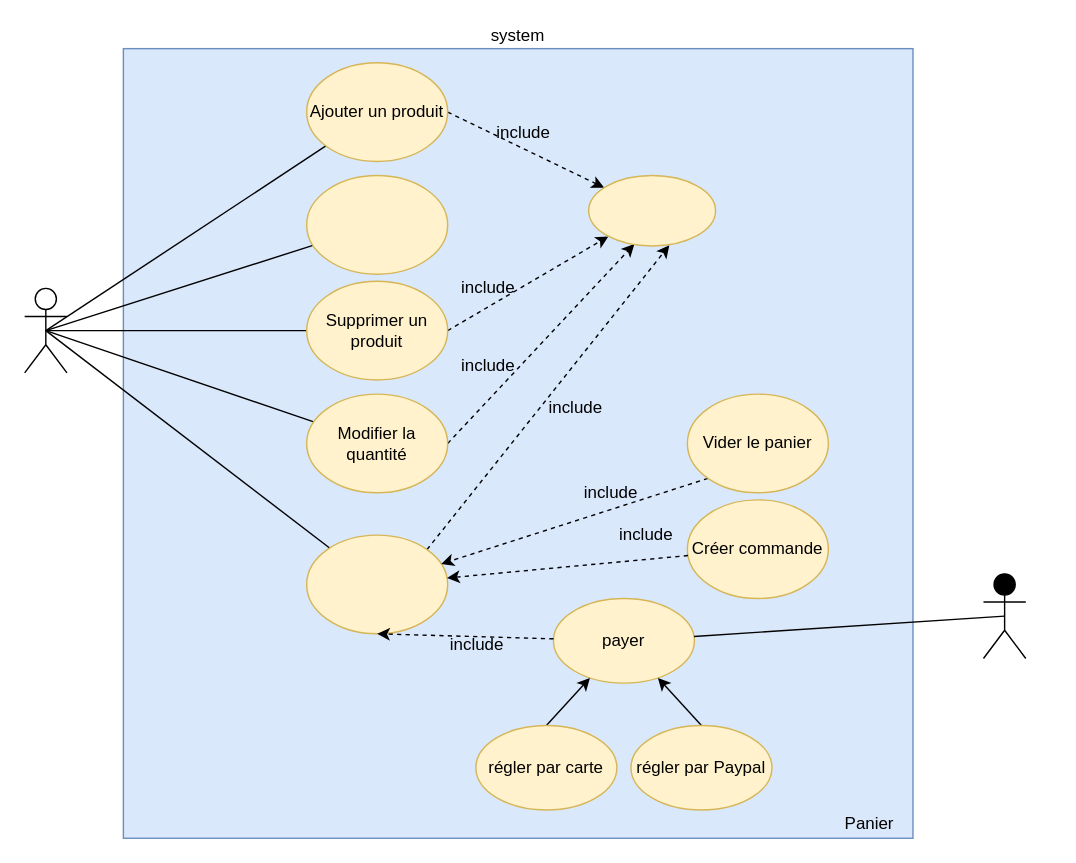
The diagram is 1076 pixels wide and 863 high, and some of its shapes have lost their labels. Here are the shapes that lost their labels. From the top down, the centre of each, then its label:
point (376, 224): Consulter produits
point (651, 210): authentification
point (45, 330): Client
point (376, 584): Valider le panier
point (1004, 615): <<system>> Paiement
